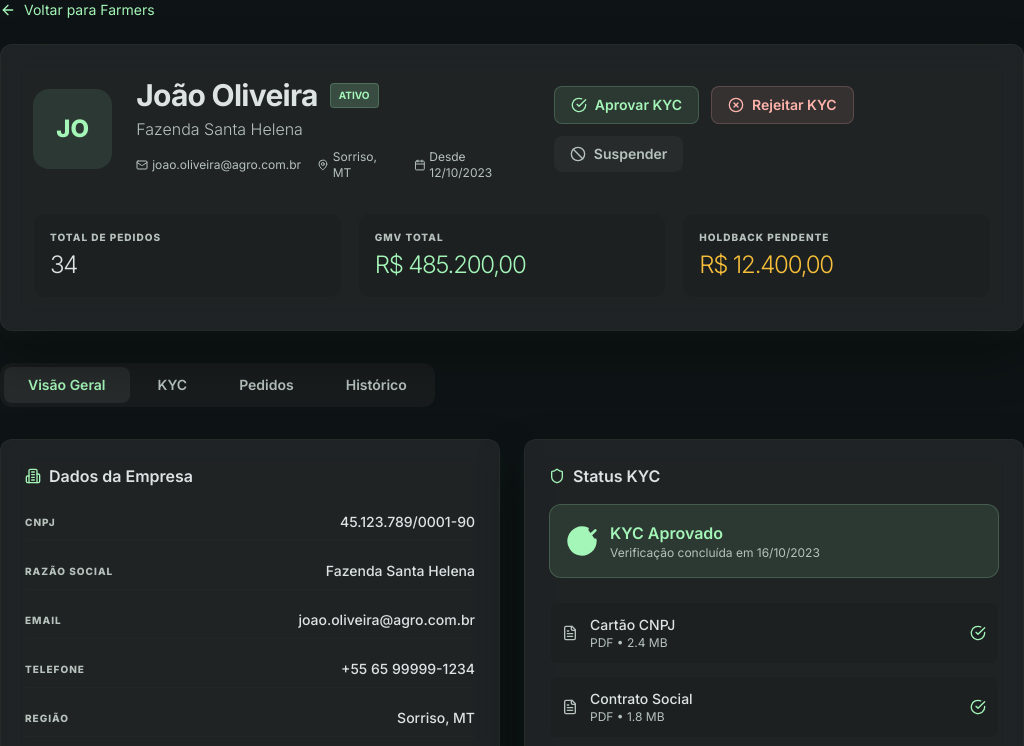
FarmerDetailPage › should switch between timeline, kyc and orders tabs
The width and height of the screenshot is (1024, 746).
Click the button "Histórico": (376, 385) [322,367,431,403]
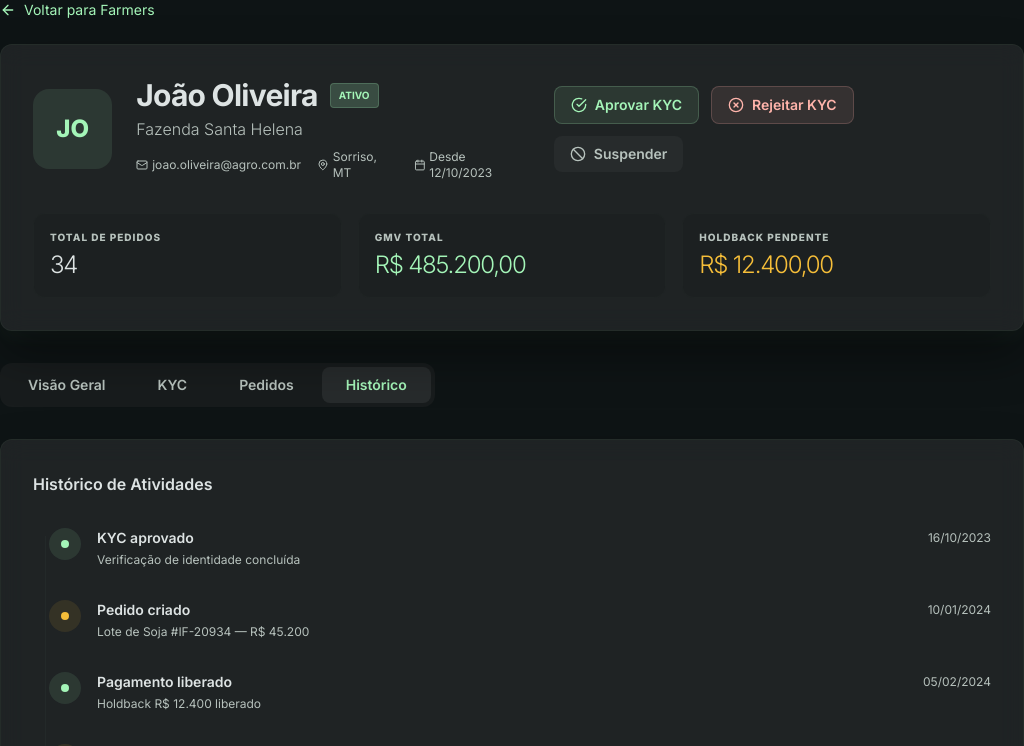
Expected: the heading "Histórico de Atividades" is shown, [33,474,212,494]
Click the button "KYC": (172, 385) [134,367,211,403]
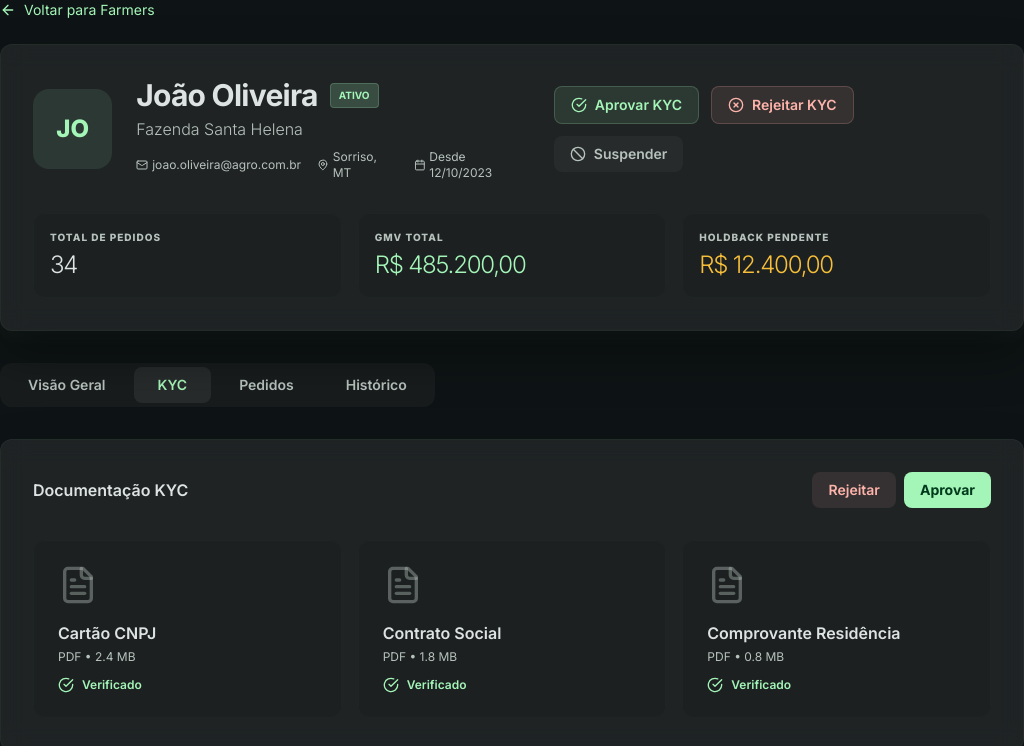
Expected: the heading "Documentação KYC" is shown, [33,478,188,502]
Click the button "Pedidos": (266, 385) [215,367,318,403]
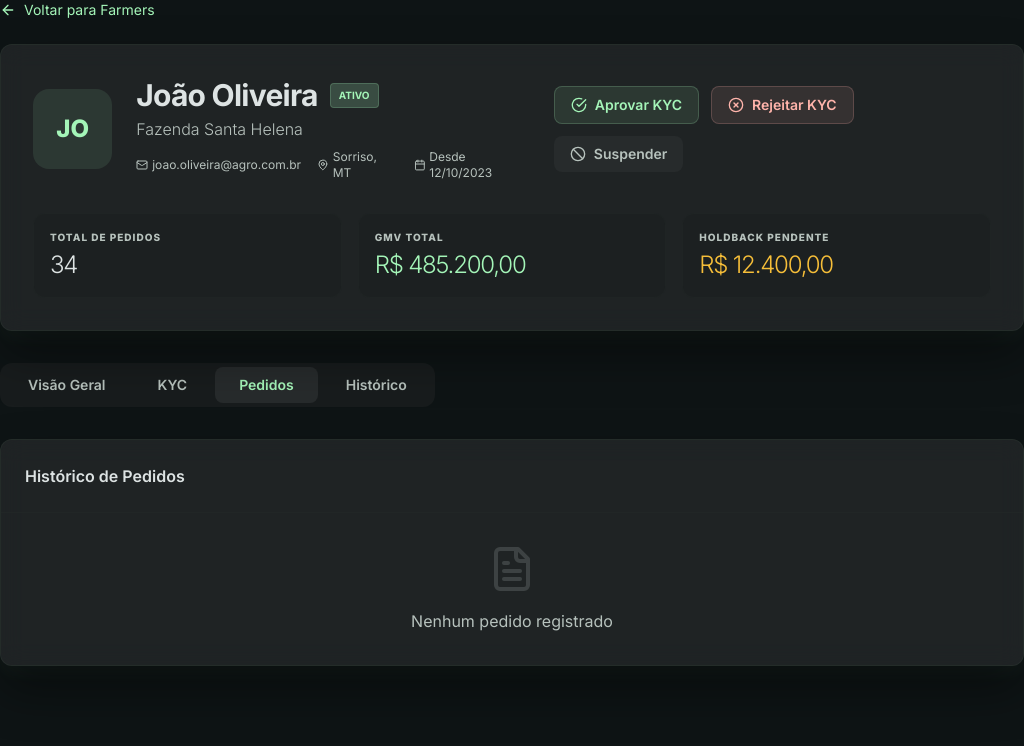
Expected: the text "Nenhum pedido registrado" is shown, [411,611,613,631]
